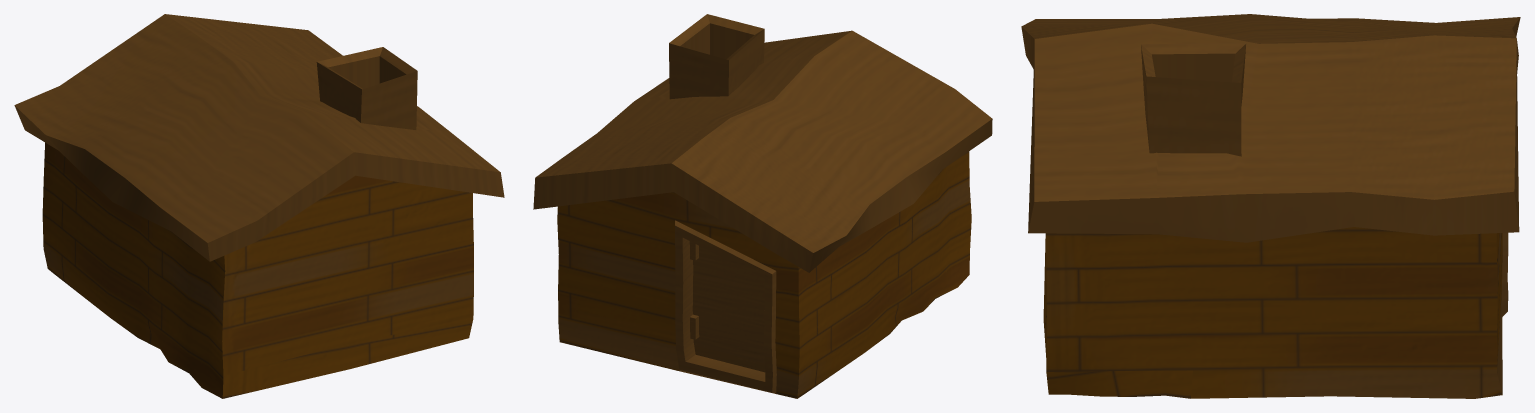
The model's file is mesh_woodenHouse.fbx.
3 renders of one model, left to right at view 1: azimuth 30°, elevation 25°; view 2: azimuth 150°, elevation 25°; view 3: azimuth 270°, elevation 25°, orthographic. The views are drawn at different scales.
Parts seen in each view (by area): view 1: mesh_House; view 2: mesh_House; view 3: mesh_House.
Part boxes in pixels (box(x1,y1,x2,y2)): mesh_House: box(14, 14, 504, 398); mesh_House: box(533, 14, 992, 398); mesh_House: box(1021, 14, 1520, 398).
Bounding box in the file's own units: 49.68 × 38.3 × 55.91.
